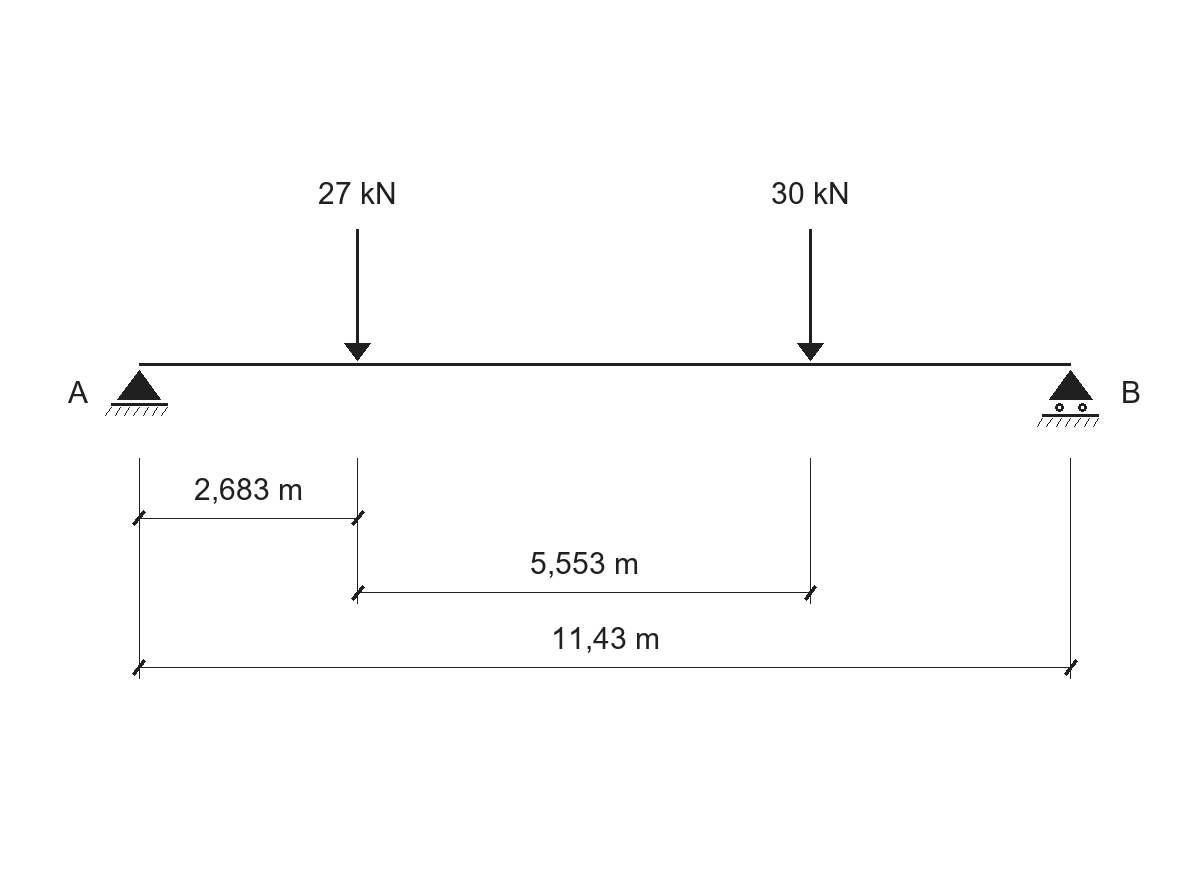pin_support: (105, 370, 168, 416)
point_load: (344, 229, 371, 361), (797, 229, 824, 361)
roller_support: (1037, 370, 1099, 427)
